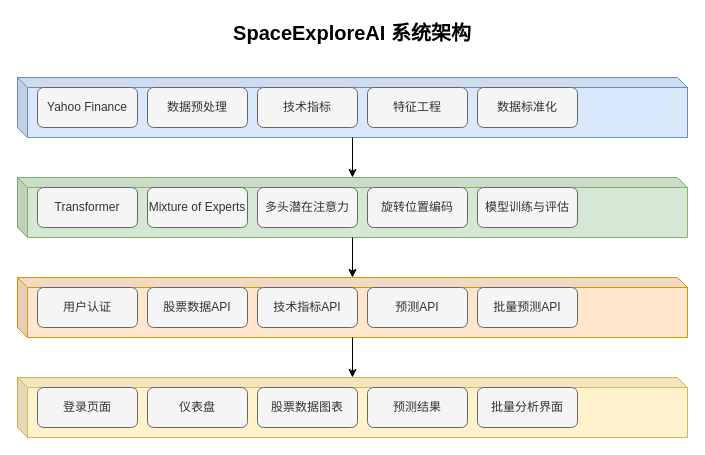
The diagram is 705 pixels wide and 455 high, and some of its shapes have lost their labels. The box of each missing label's shape, as (x1, y1, x2, y2) in pixels:
API层: (16, 276, 688, 338)
UI层: (16, 376, 688, 438)
数据层: (16, 76, 688, 138)
模型层: (16, 176, 688, 238)
